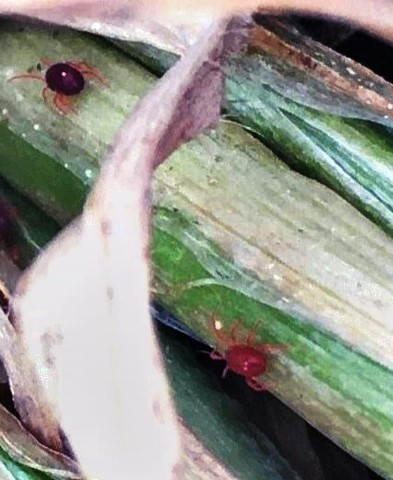Wheat Red Spider: (197, 310, 297, 402)
